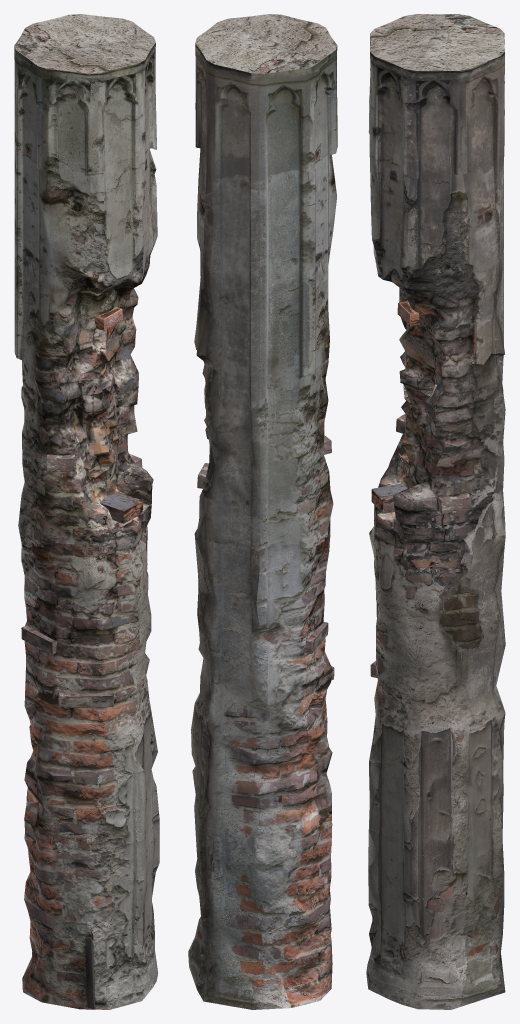
Rendered from sm_ChapelColumn_01_03.fbx.
The picture shows the model from 3 angles, left to right: view 1: azimuth 30°, elevation 25°; view 2: azimuth 150°, elevation 25°; view 3: azimuth 270°, elevation 25°; orthographic projection.
Parts seen in each view (by area): view 1: sm_ChapelColumn_01_03_LOD0; view 2: sm_ChapelColumn_01_03_LOD0; view 3: sm_ChapelColumn_01_03_LOD0.
Boxes of the visible parts, left/top/right/bottom form: sm_ChapelColumn_01_03_LOD0: left=14, top=14, right=159, bottom=1009; sm_ChapelColumn_01_03_LOD0: left=188, top=14, right=337, bottom=1009; sm_ChapelColumn_01_03_LOD0: left=366, top=14, right=505, bottom=1009.
Bounding box in the file's own units: 77.71 × 76 × 563.
